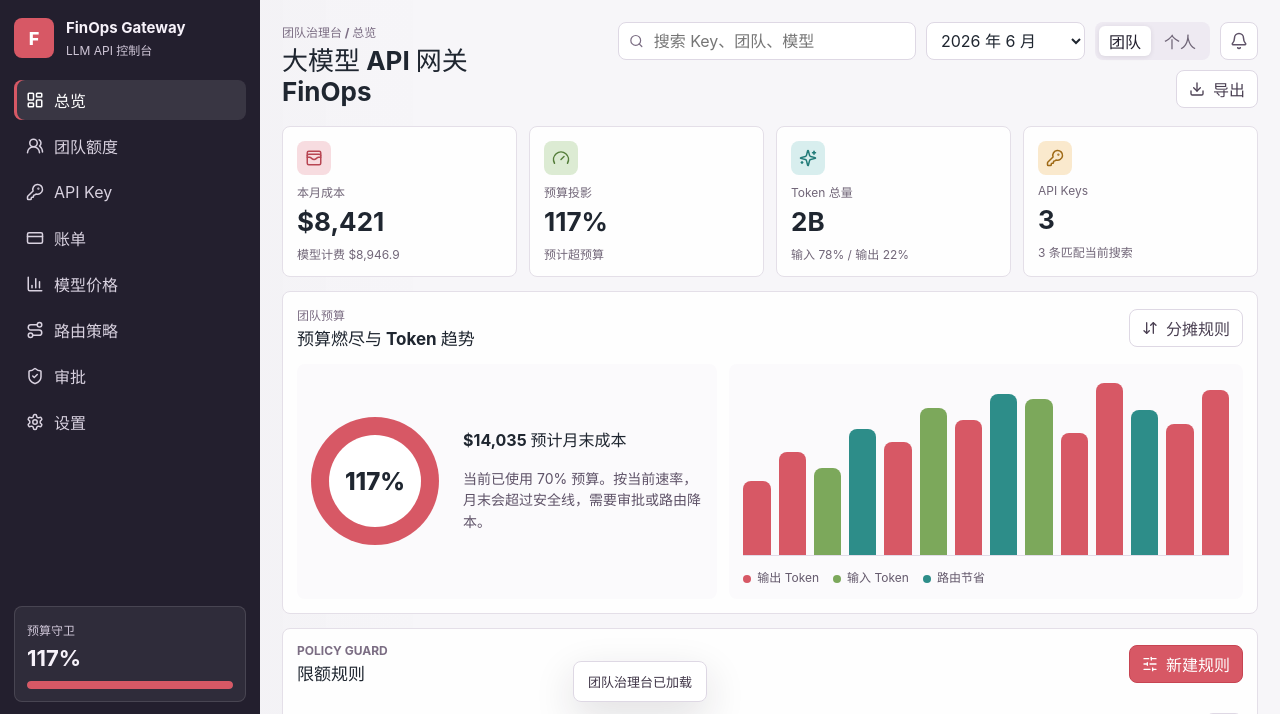
Scenario: API key management page › filters and deletes API keys
This screenshot has width=1280, height=714.
Click the button "API Key" at (130, 192), box [14,172,246,212]
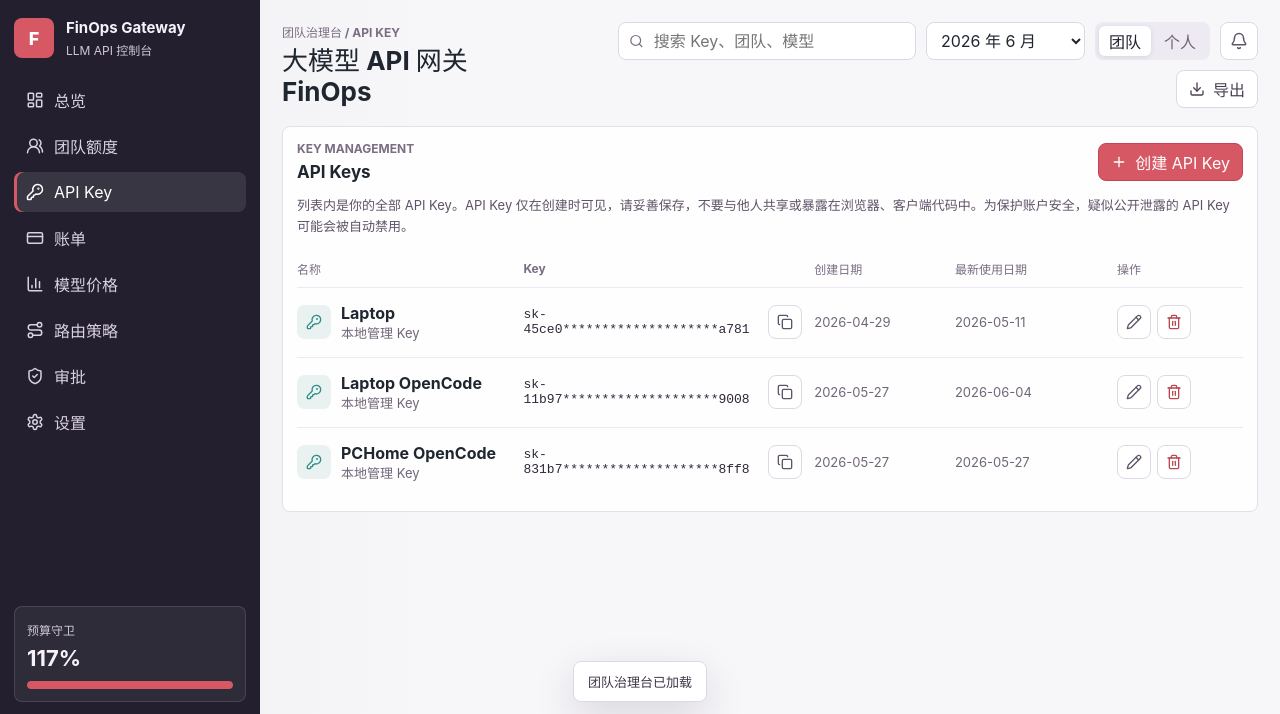
Type "PCHome" into the field named "搜索 API Key 或团队" at (778, 41), box [652,30,905,52]
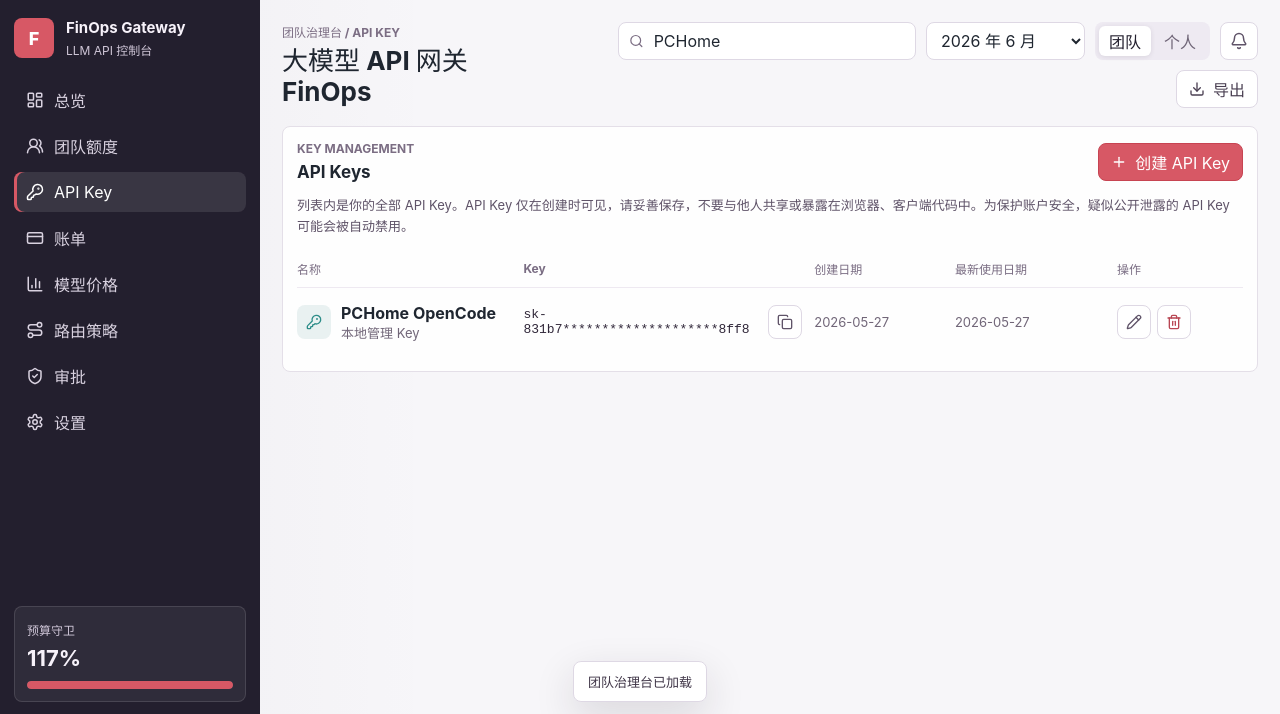
Expected: the text "PCHome OpenCode" is shown, [341,303,496,323]
Now the text "Laptop" is gone
Click the button named "删除 PCHome OpenCode" at (1174, 322), box [1157,305,1191,339]
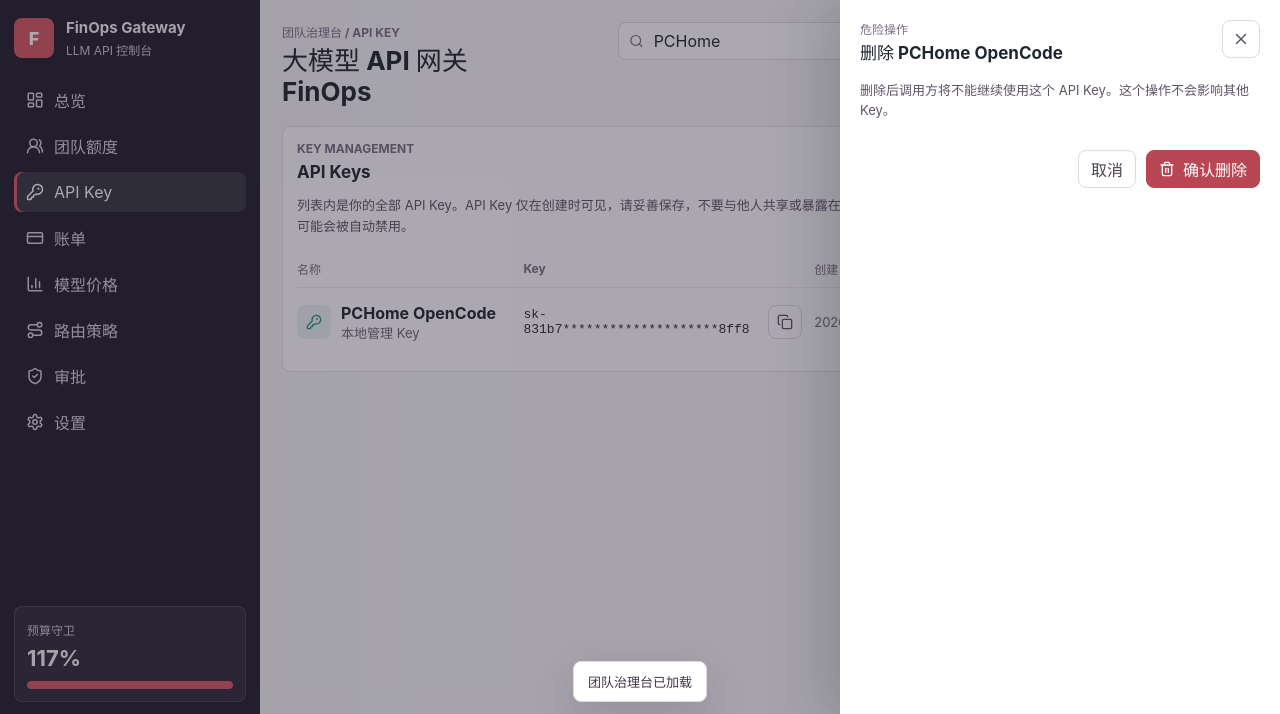
Click the button "确认删除" at (1203, 168), box [1146,150,1260,188]
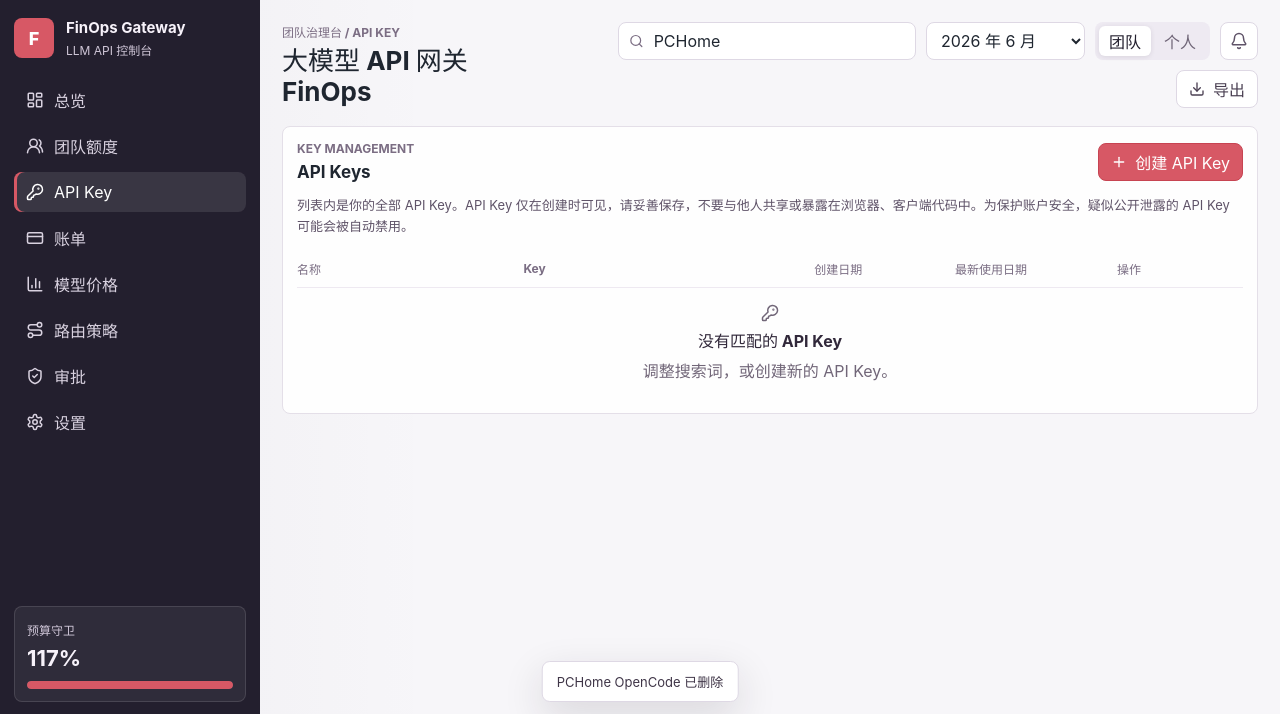
Now the text "没有匹配的 API Key" is shown, box [698,328,842,352]
